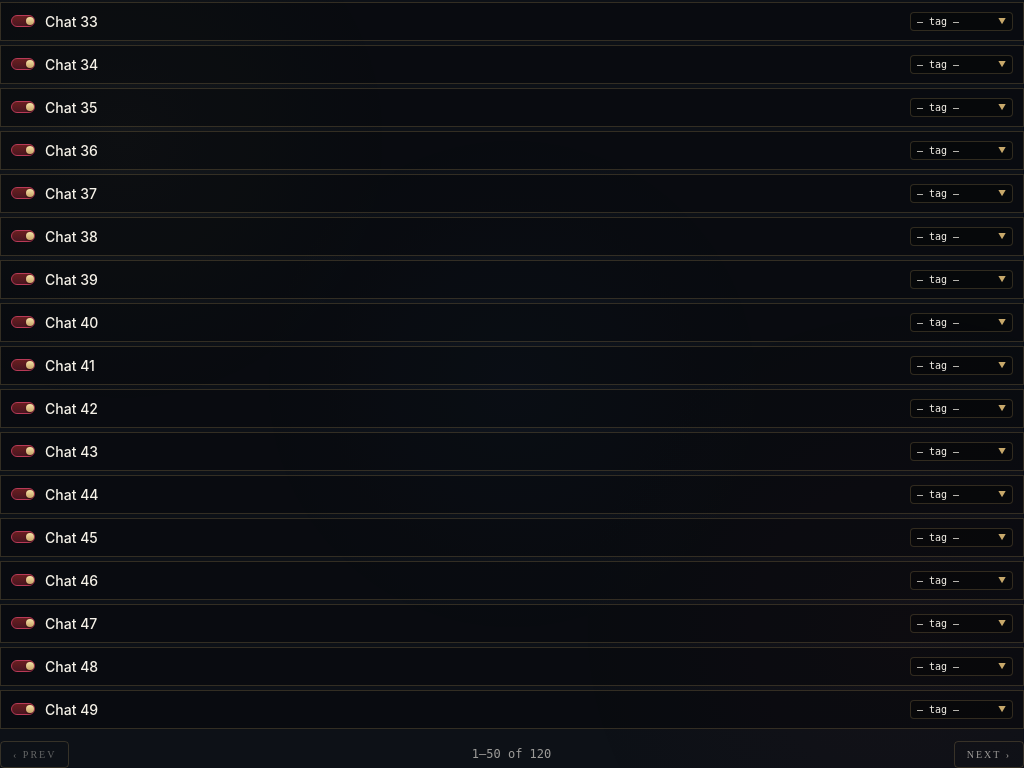
Test: <WhatsAppPanel> chat pagination › advances a page on Next and goes back on Prev
(page scrolled)
Click the button "Next ›": (989, 754) [954, 740, 1023, 767]
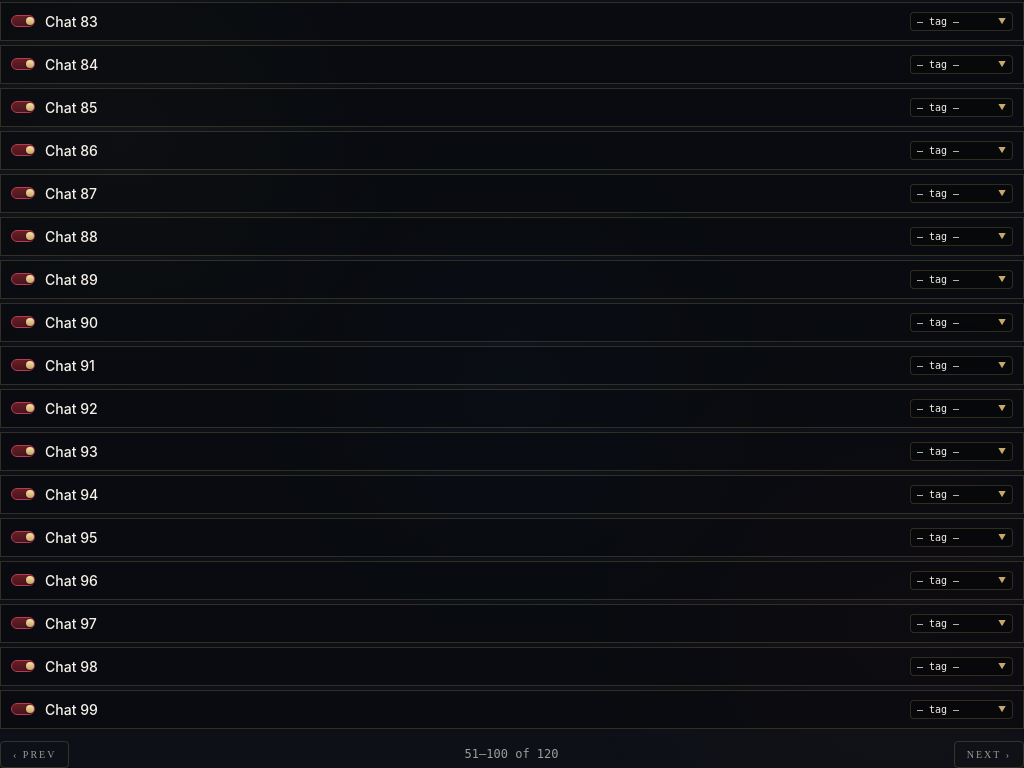
Result: the text "51–100 of 120" is shown at [465, 745, 559, 763]
Click the button "‹ Prev": (35, 754) [0, 740, 69, 767]
(page scrolled)
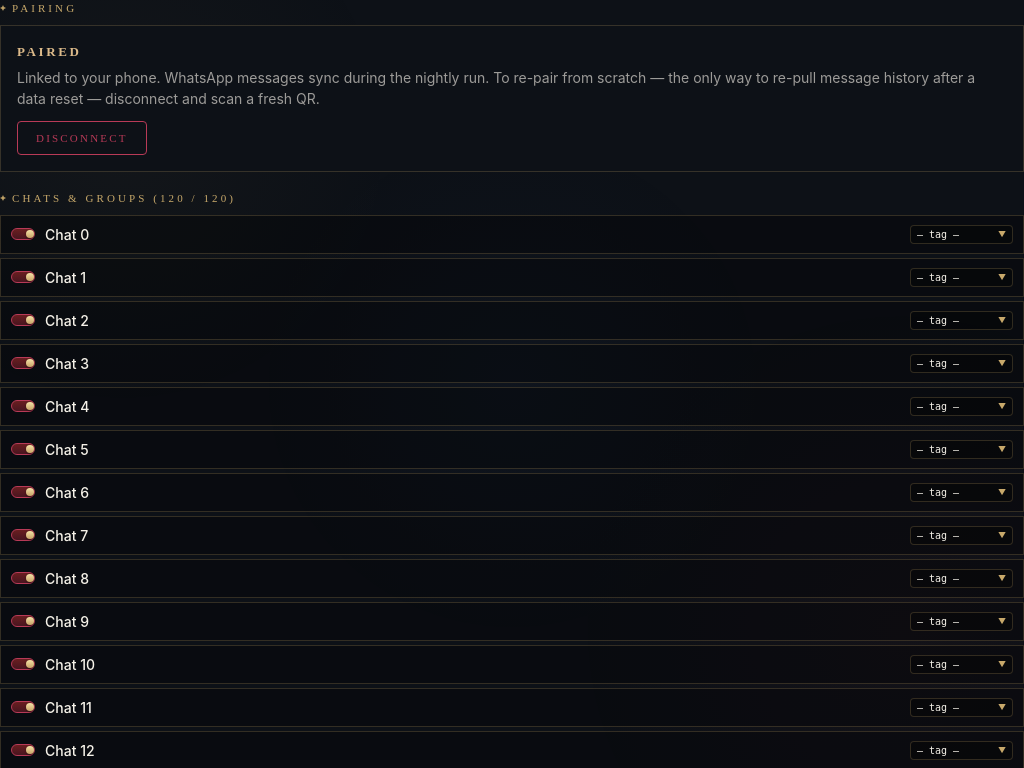
Result: the text "Chat 0" is shown at [45, 226, 89, 242]
